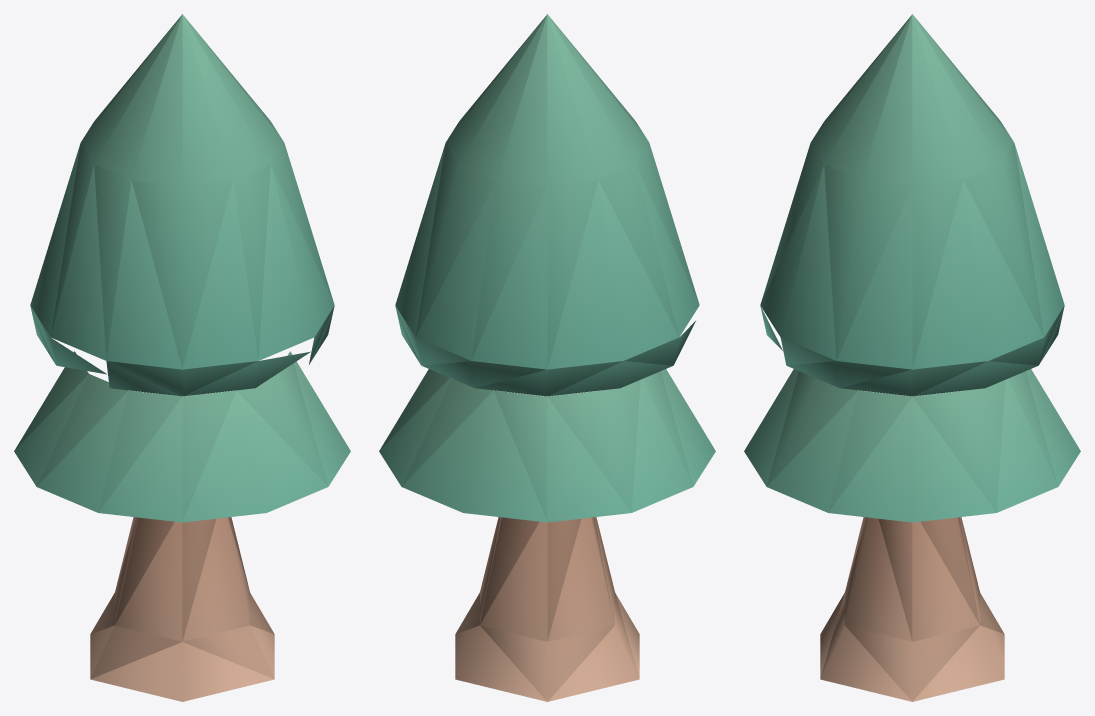
Rendered from tree_pine.glb.
3 renders of one model, left to right at view 1: azimuth 30°, elevation 25°; view 2: azimuth 150°, elevation 25°; view 3: azimuth 270°, elevation 25°, orthographic.
Visible parts, largest first — view 1: tree_pine; view 2: tree_pine; view 3: tree_pine.
Boxes of the visible parts, box(x1,y1,x2,y2) form: tree_pine: box(14, 14, 350, 701); tree_pine: box(379, 14, 715, 701); tree_pine: box(744, 14, 1080, 701).
Bounding box in the file's own units: 0.9485 × 2 × 0.9485.
